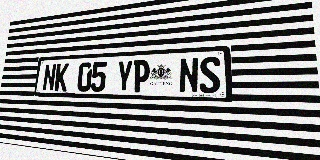0: (77, 62, 92, 92)
5: (91, 61, 107, 92)
K: (54, 63, 69, 91)
N: (179, 57, 199, 93), (42, 64, 57, 91)
P: (132, 59, 150, 92)
S: (199, 56, 221, 93)
Y: (116, 60, 133, 92)
